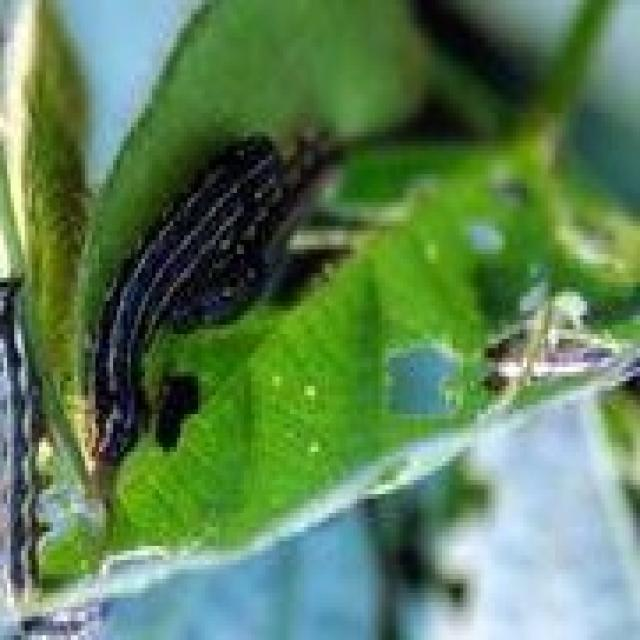army worm: (91, 130, 279, 474), (1, 276, 43, 600)
